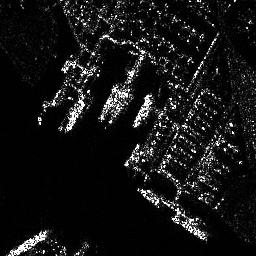ship: (1, 229, 53, 256)
